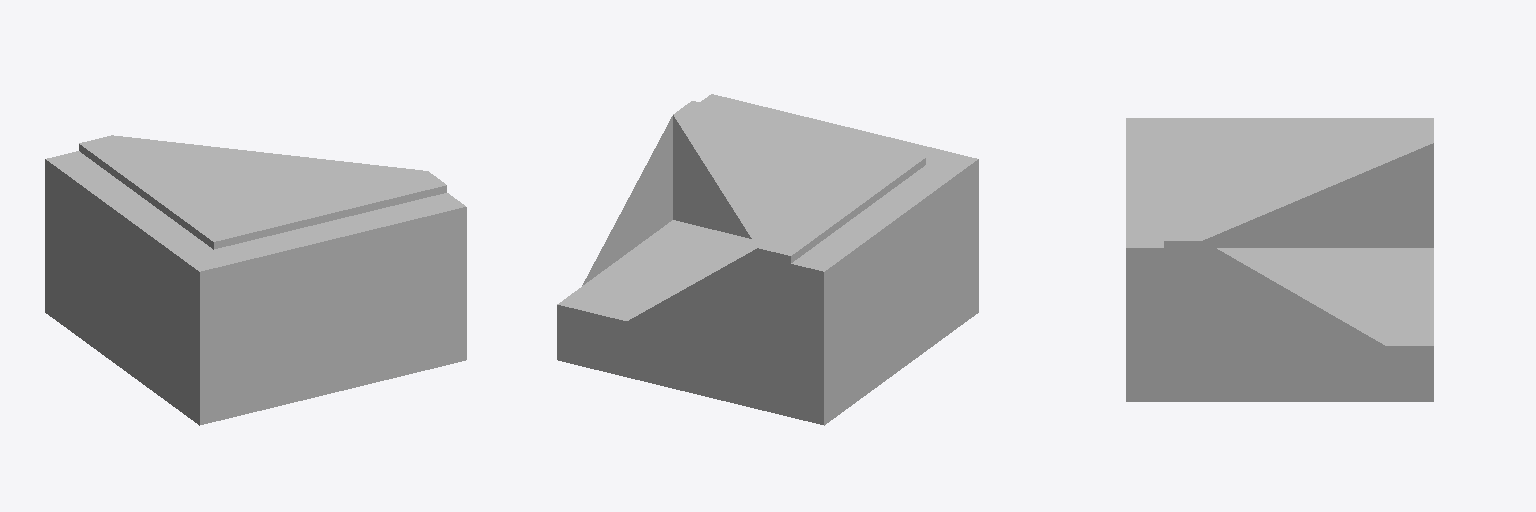
Rendered from roadTile_045.obj.
3 renders of one model, left to right at view 1: azimuth 30°, elevation 25°; view 2: azimuth 150°, elevation 25°; view 3: azimuth 270°, elevation 25°, orthographic.
Visible parts, largest first — view 1: Mesh1 Group1 Model; view 2: Mesh1 Group1 Model; view 3: Mesh1 Group1 Model.
Part boxes in pixels (x1,y1,x2,y2): Mesh1 Group1 Model: (45, 135, 466, 425); Mesh1 Group1 Model: (557, 94, 978, 425); Mesh1 Group1 Model: (1126, 118, 1433, 401).
Bounding box in the file's own units: 3 × 1.73 × 3.